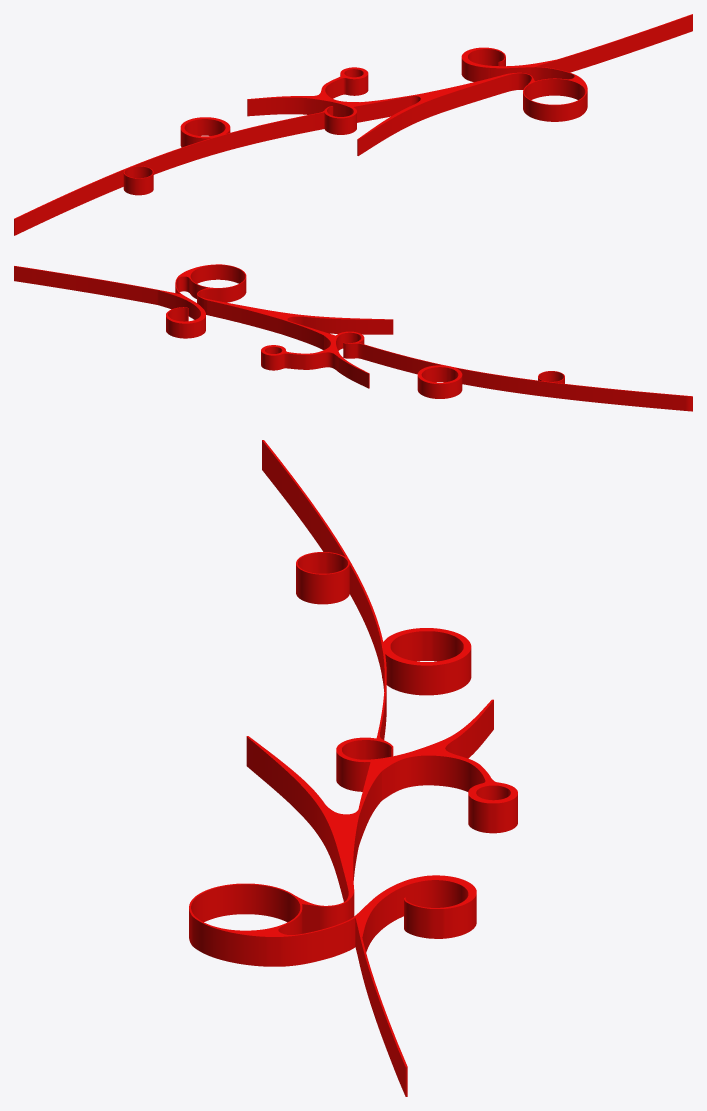
The model's file is SunPathMeshSmooth.fbx.
The picture shows the model from 3 angles, top to bottom: view 1: azimuth 30°, elevation 25°; view 2: azimuth 150°, elevation 25°; view 3: azimuth 270°, elevation 25°; orthographic projection. The views are drawn at different scales.
Visible parts, largest first — view 1: Curve; view 2: Curve; view 3: Curve.
Part boxes in pixels (<box>): Curve: <box>14,14,692,235</box>; Curve: <box>14,264,692,411</box>; Curve: <box>189,440,517,1096</box>.
Size of the model in its own units: 500 by 11.07 by 111.
